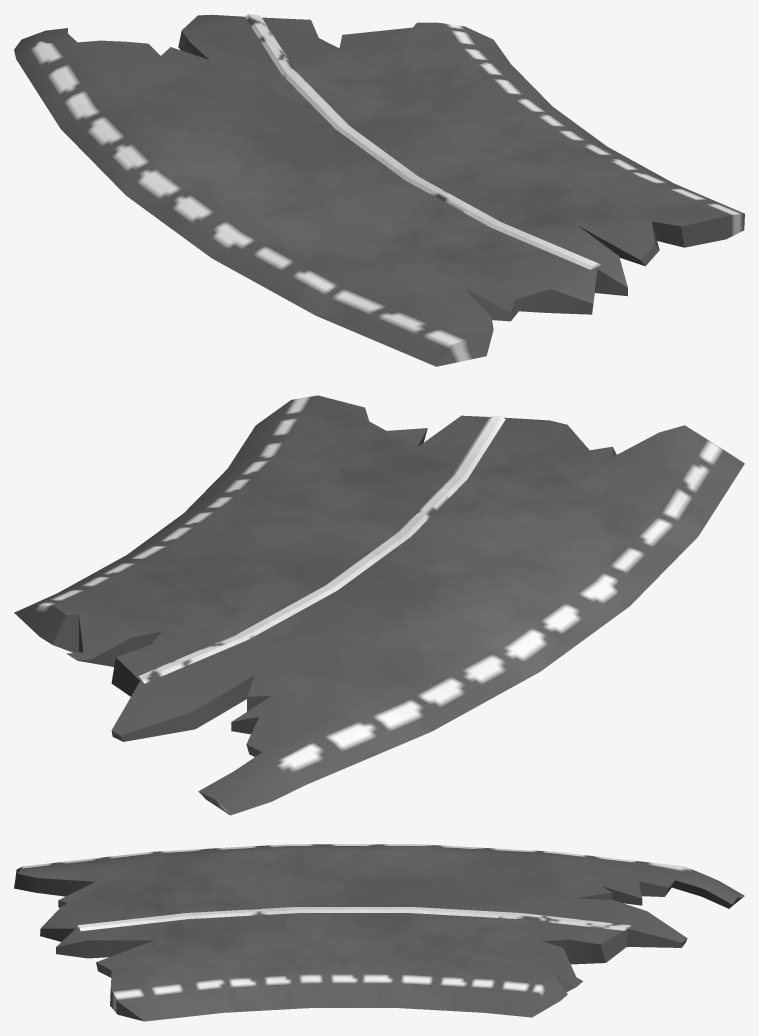
File: mdl_road.fbx
3 views of the same model, one above another, from view 1: azimuth 30°, elevation 25°; view 2: azimuth 150°, elevation 25°; view 3: azimuth 270°, elevation 25° (orthographic). The views are drawn at different scales.
Visible parts, largest first — view 1: mdl_road; view 2: mdl_road; view 3: mdl_road.
Part boxes in pixels (x1,y1,x2,y2): mdl_road: (14, 14, 744, 366); mdl_road: (14, 395, 744, 815); mdl_road: (14, 844, 744, 1021).
Size of the model in its own units: 7.7 by 0.6857 by 13.63.
